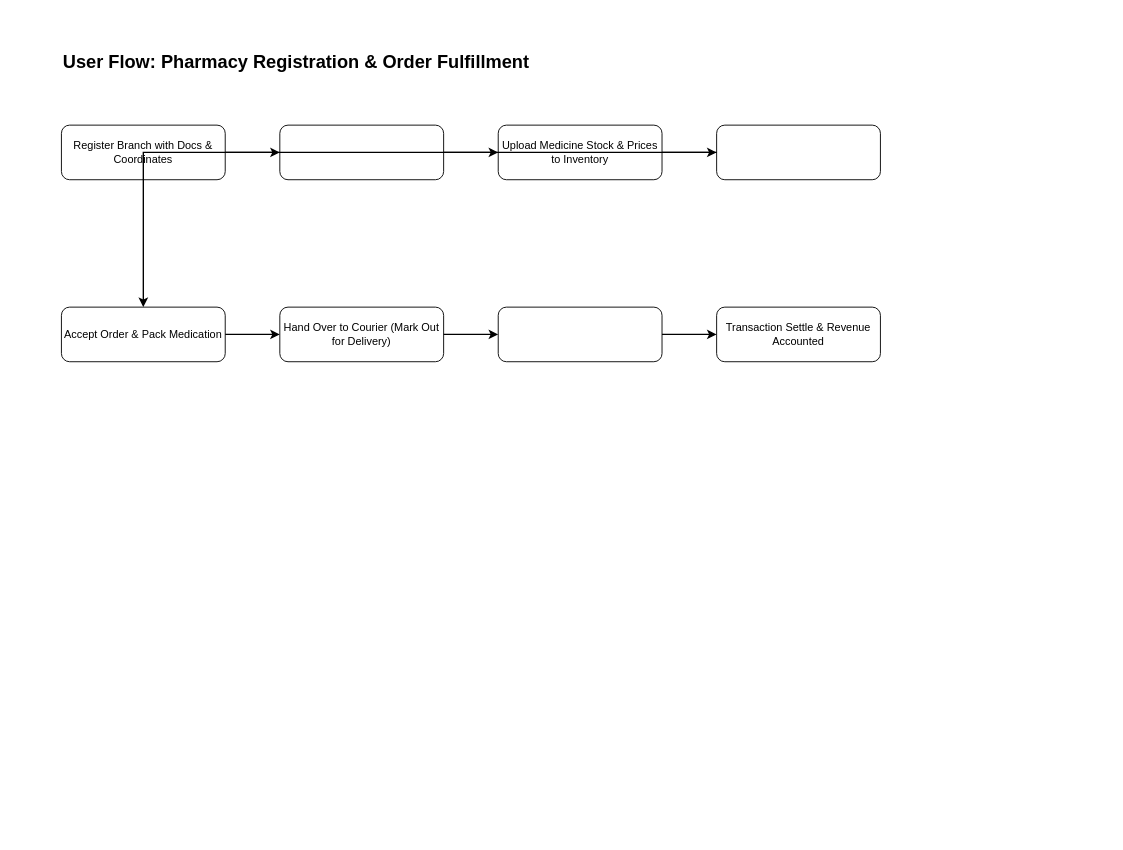
Image size: 1123x850. Some labels were removed from this diagram. Here are the shapes that lost their labels. From the top down, the centre of each, then its label:
At point (361, 152): "Admin Audits Docs & Approves Account".
At point (798, 152): "Receive Marketplace Order (or Prescription Direct)".
At point (579, 334): "Customer Confirms Delivery Receipt".
